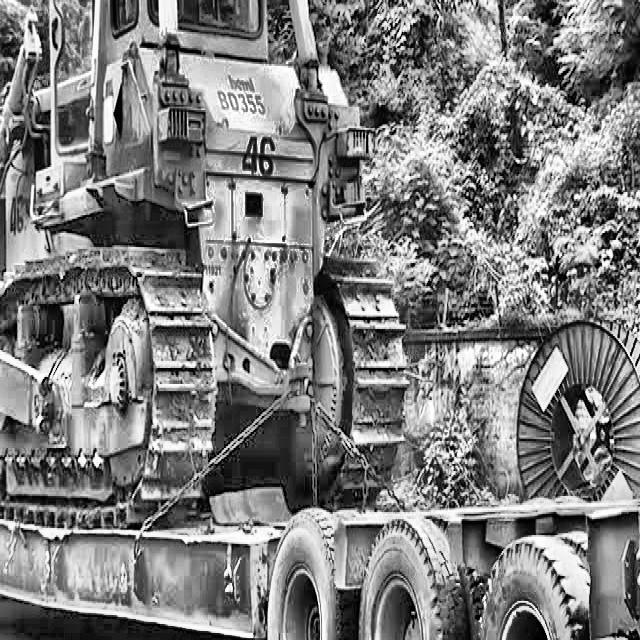buldozerpayloadergrader: (0, 0, 412, 492)
